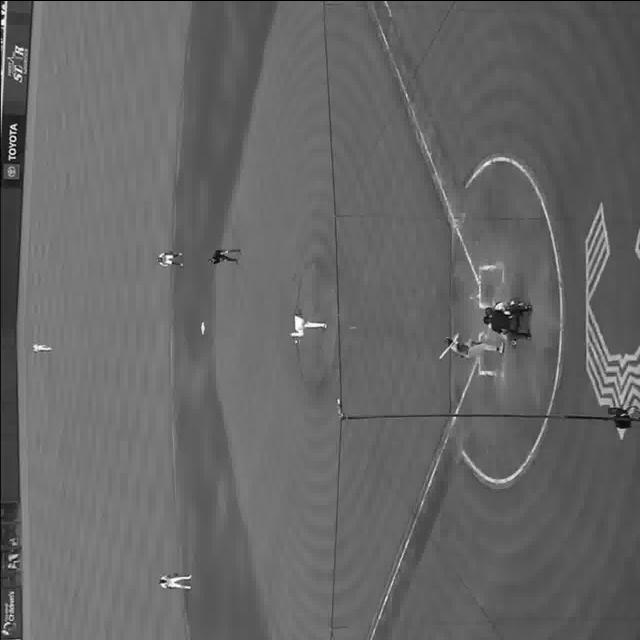base: (200, 320, 207, 336)
baseball: (348, 323, 356, 332)
bat: (438, 332, 461, 358)
